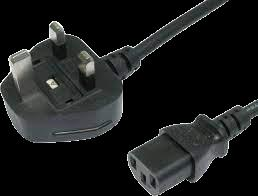cable: (0, 0, 228, 144), (128, 100, 258, 196)
